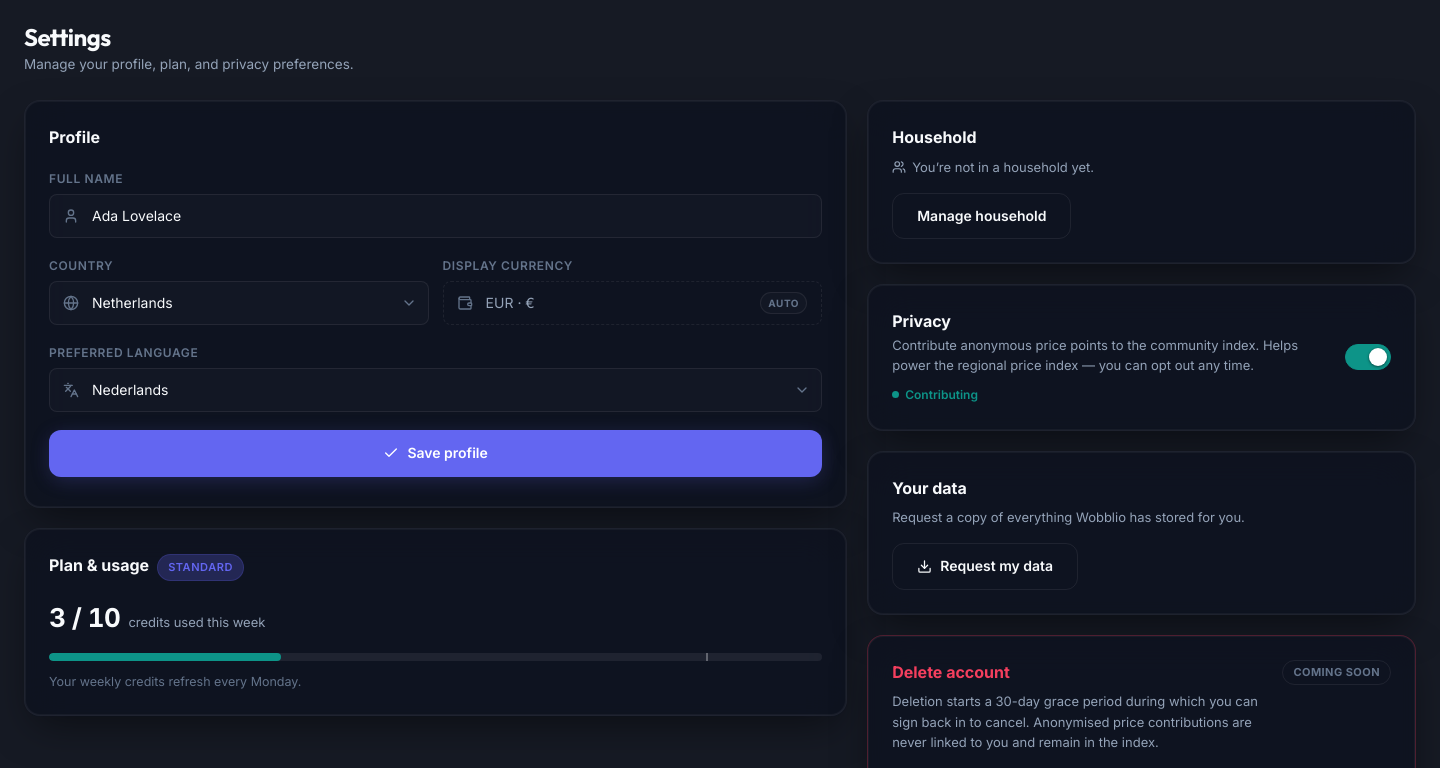
Test: SettingsPage › requests a data export and shows the pending state
Click the button with test id "settings-export-request".
click(985, 567)  # box [892, 543, 1078, 590]
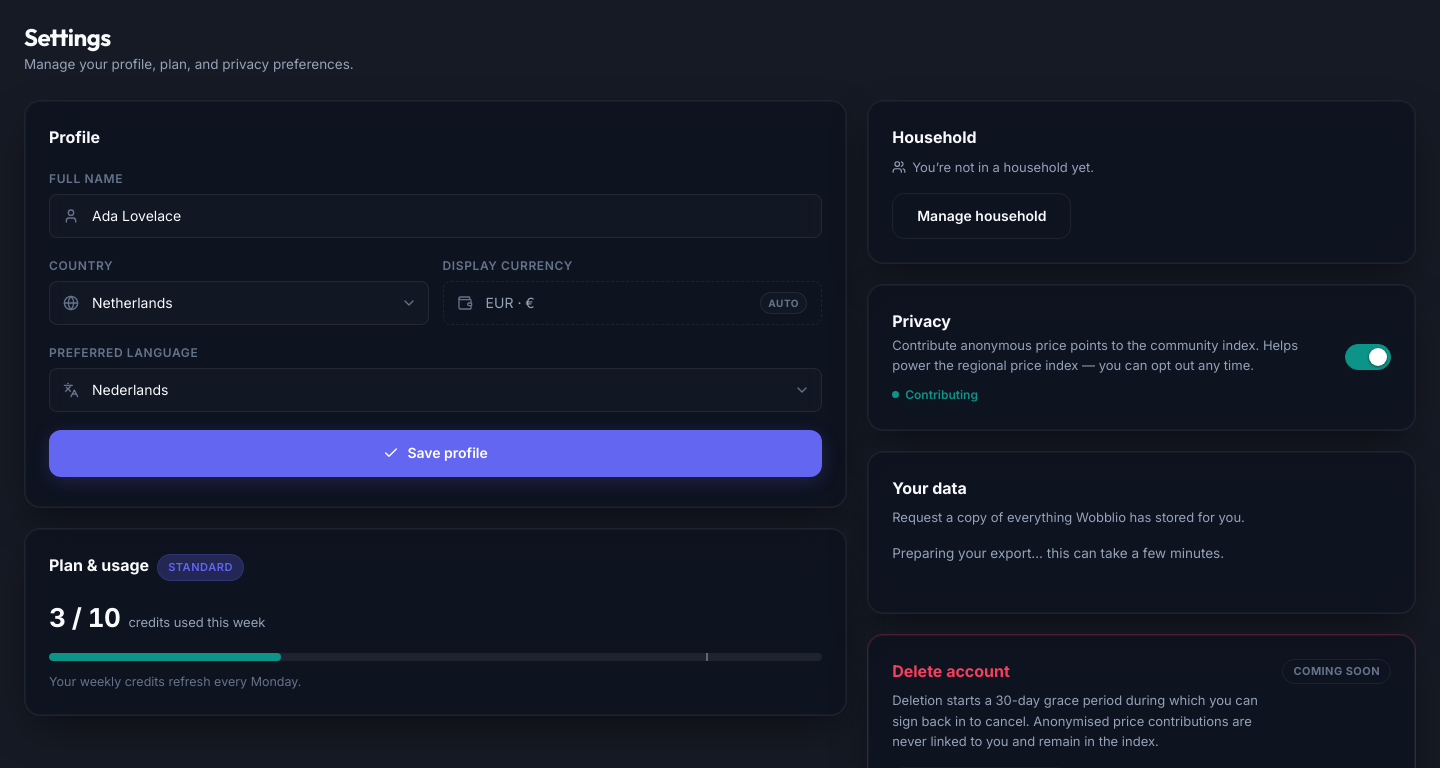
Now the text with test id "settings-export-status" shows "Preparing your export", box [892, 545, 1224, 561]
